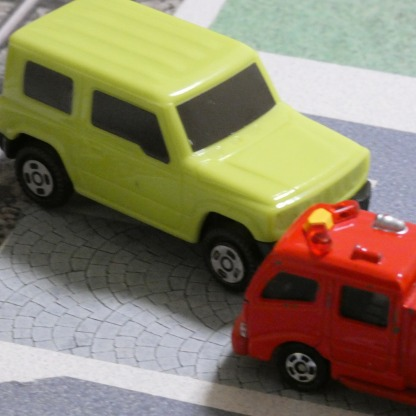car: (2, 0, 373, 288), (228, 199, 416, 397)
